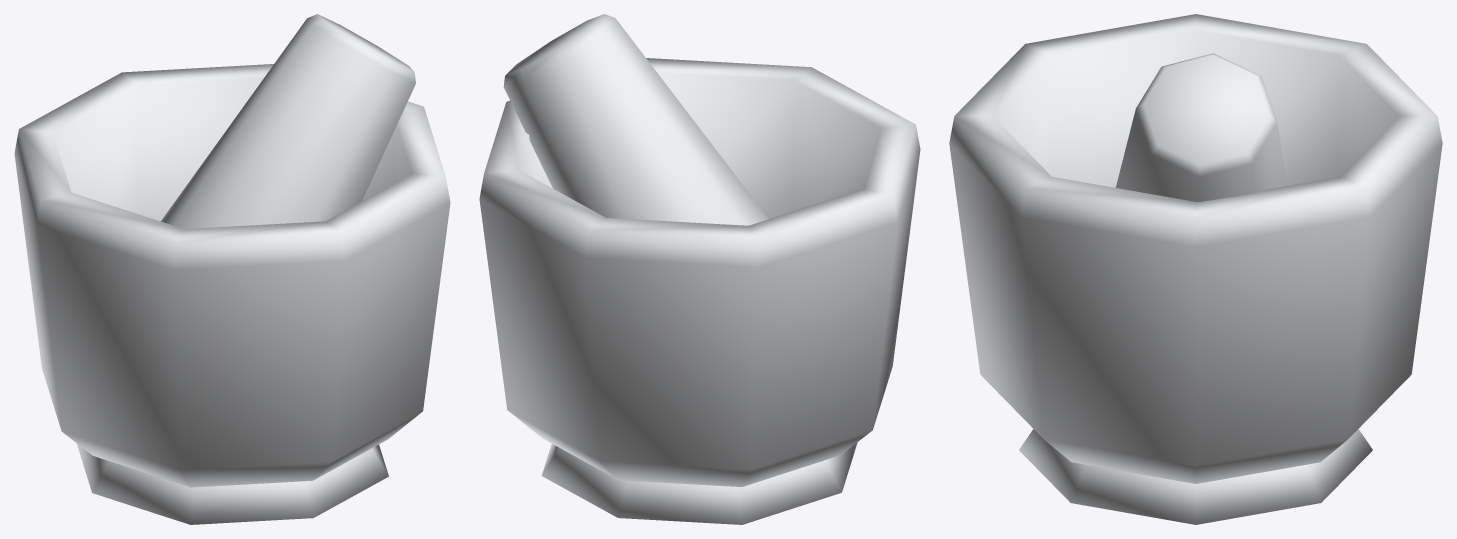
The model's file is Mortar_and_pestle.glb.
The picture shows the model from 3 angles, left to right: view 1: azimuth 30°, elevation 25°; view 2: azimuth 150°, elevation 25°; view 3: azimuth 270°, elevation 25°; orthographic projection. The views are drawn at different scales.
Parts seen in each view (by area): view 1: cutensil_grind_mortar_and_pestle_Cylinder.006; view 2: cutensil_grind_mortar_and_pestle_Cylinder.006; view 3: cutensil_grind_mortar_and_pestle_Cylinder.006.
Boxes of the visible parts, box(x1,y1,x2,y2) form: cutensil_grind_mortar_and_pestle_Cylinder.006: box(14, 14, 450, 524); cutensil_grind_mortar_and_pestle_Cylinder.006: box(479, 14, 920, 524); cutensil_grind_mortar_and_pestle_Cylinder.006: box(949, 14, 1442, 524).
Size of the model in its own units: 2.04 by 2.04 by 2.04.
1 material, 1 textured.
